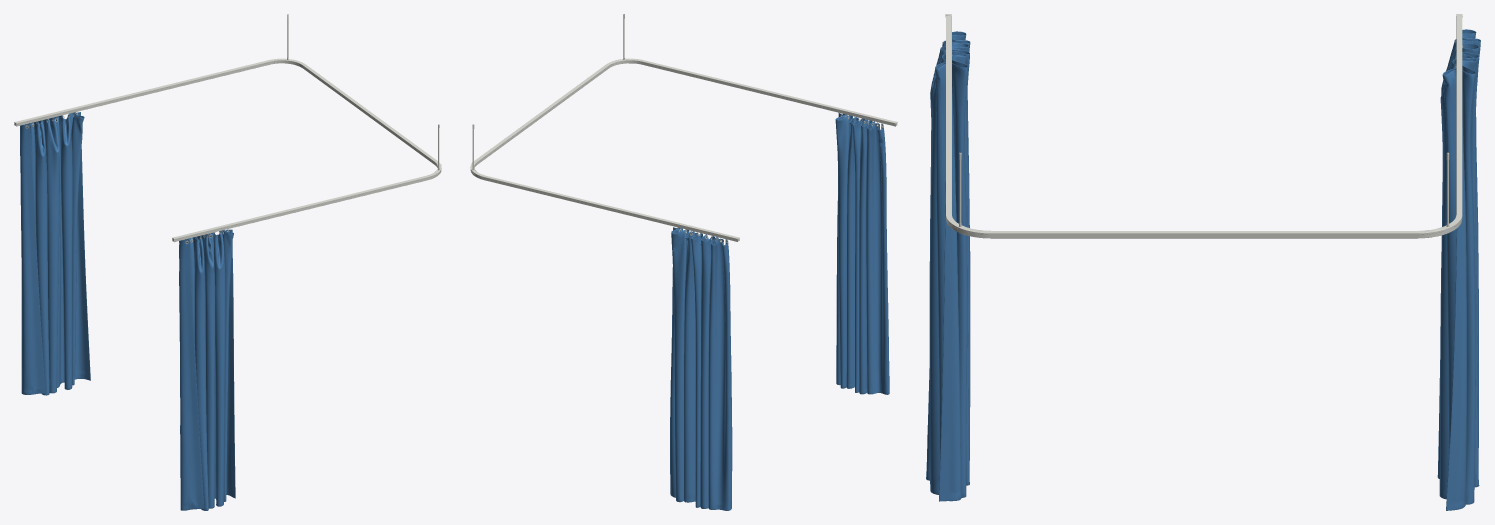
File: screen_hospital_b06.glb
3 renders of one model, left to right at view 1: azimuth 30°, elevation 25°; view 2: azimuth 150°, elevation 25°; view 3: azimuth 270°, elevation 25°, orthographic. The views are drawn at different scales.
Size of the model in its own units: 3.14 by 3.46 by 3.36.
